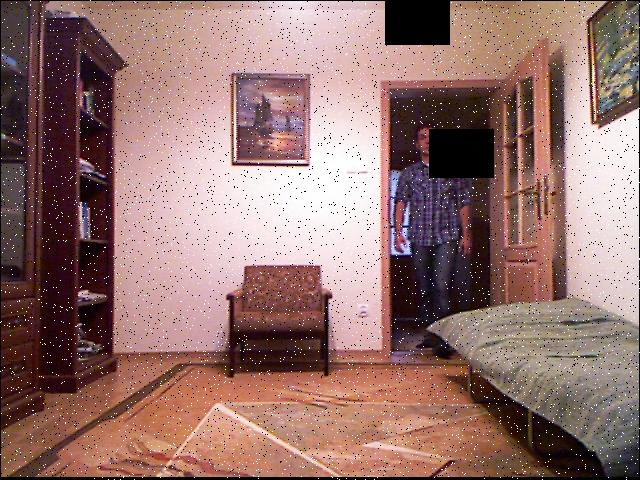walking: (391, 113, 477, 364)
